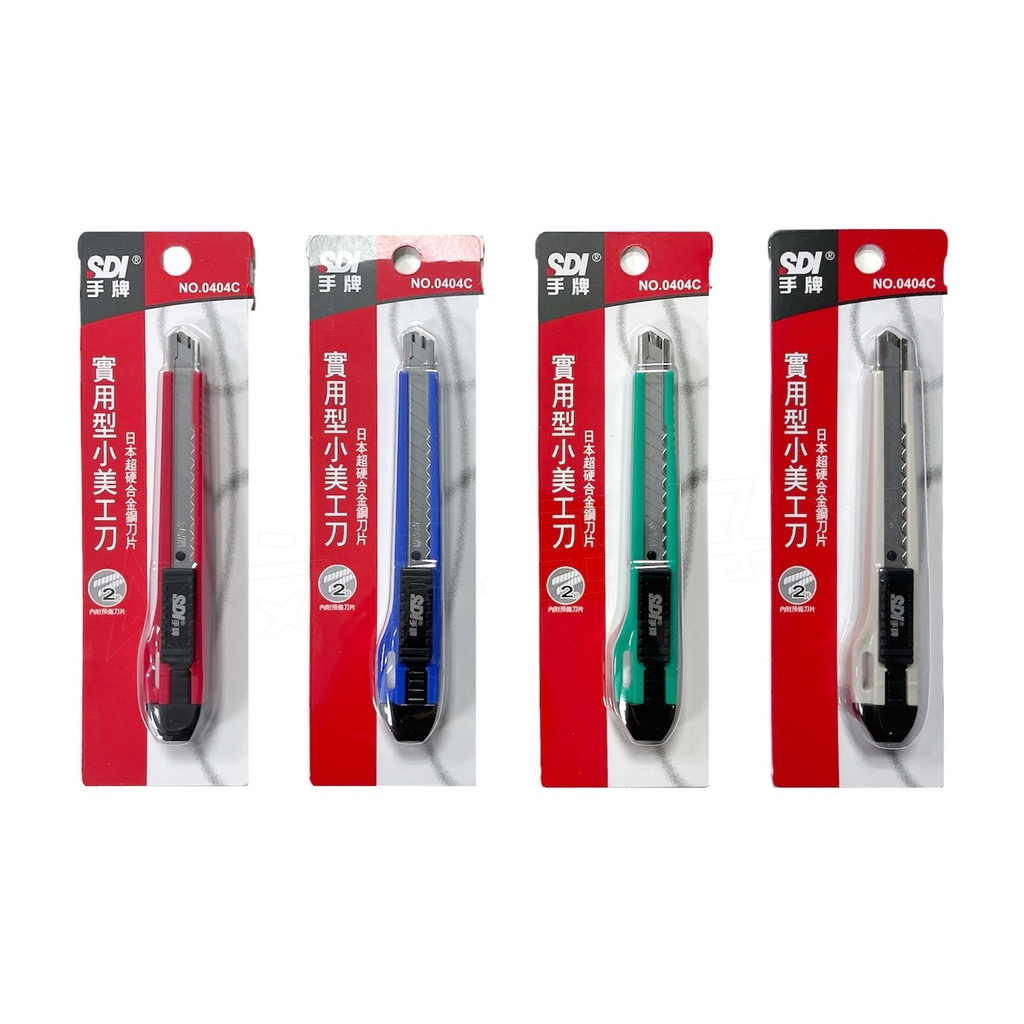cutter: (846, 329, 929, 748), (368, 324, 445, 746), (604, 328, 681, 746), (141, 328, 213, 743)
